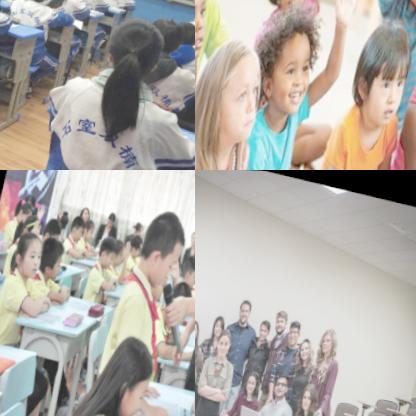head: (196, 25, 277, 148), (247, 0, 329, 113), (345, 4, 416, 124), (96, 328, 165, 416), (136, 204, 191, 286), (105, 11, 165, 81), (11, 229, 50, 280), (149, 11, 187, 53), (37, 235, 70, 281), (93, 229, 122, 273), (39, 217, 64, 248), (108, 234, 130, 268), (300, 379, 322, 412), (174, 13, 195, 47), (67, 211, 89, 243), (214, 326, 235, 356), (318, 323, 339, 353), (22, 211, 45, 238), (14, 197, 35, 225), (179, 251, 195, 286), (285, 316, 304, 345), (297, 334, 318, 360), (271, 370, 292, 396), (237, 294, 255, 323), (212, 309, 230, 335), (273, 306, 291, 332), (257, 313, 274, 340), (244, 367, 263, 391), (127, 230, 145, 255), (54, 206, 71, 230), (81, 217, 97, 241), (79, 201, 96, 223), (103, 208, 119, 230), (22, 191, 38, 210), (133, 216, 148, 234), (195, 314, 202, 340), (188, 223, 195, 248)
